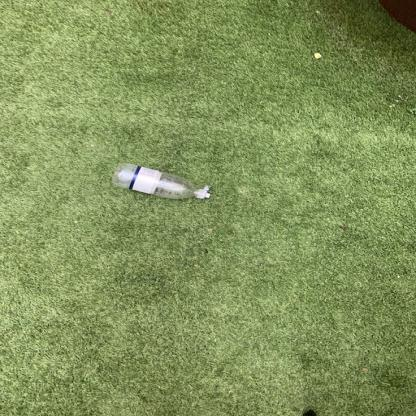trash: (104, 159, 214, 205)
